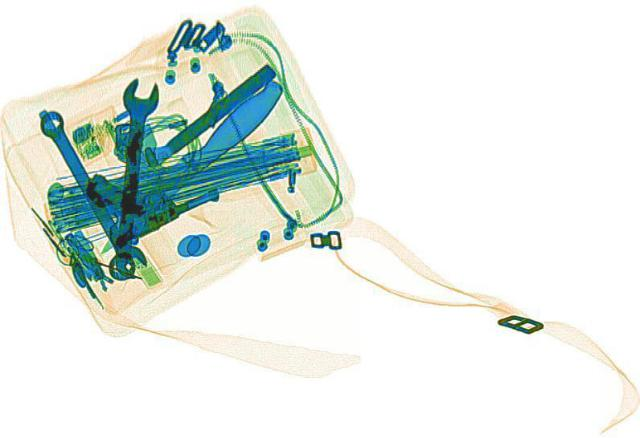Gun: (50, 141, 226, 249)
Knife: (86, 78, 296, 257), (75, 63, 281, 218)
Wrench: (27, 108, 156, 280), (103, 77, 159, 279)
